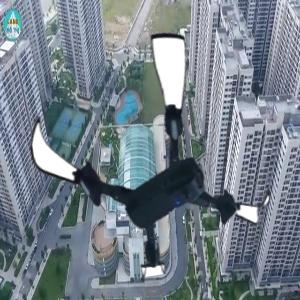drone: (30, 35, 271, 276)
